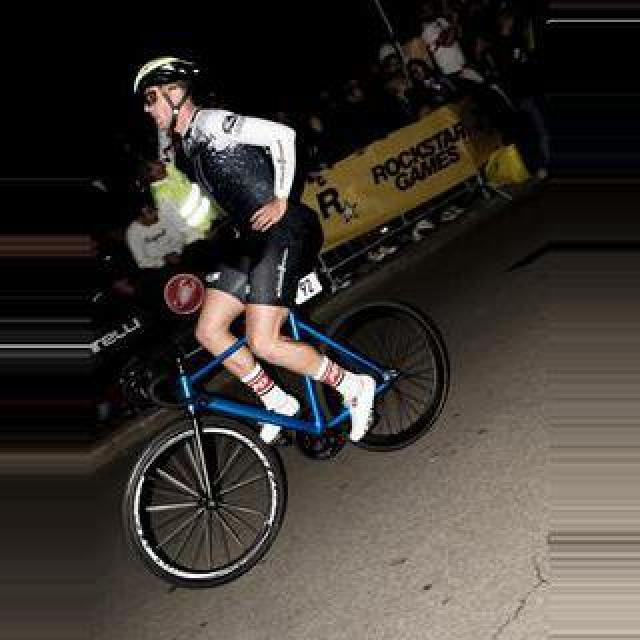MC-Bike: (126, 46, 344, 438)
Person: (96, 226, 448, 594)
